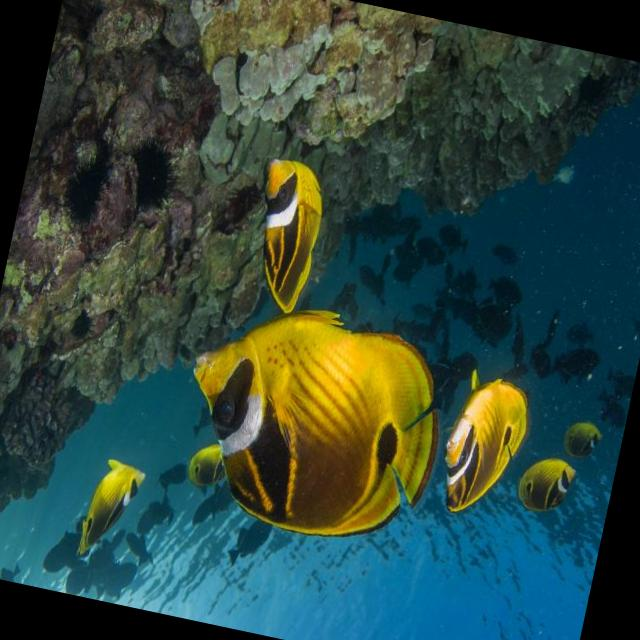ButterflyFish: (162, 300, 468, 554), (220, 137, 354, 314), (424, 352, 546, 540), (54, 447, 154, 577), (514, 443, 588, 530), (556, 400, 618, 472), (174, 432, 222, 506)
